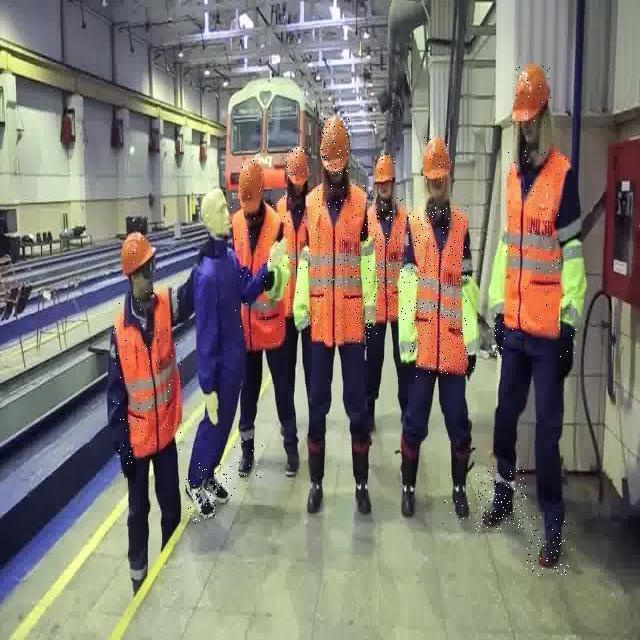helmet: (511, 66, 551, 125), (320, 118, 350, 174), (120, 232, 158, 272), (238, 159, 264, 217), (422, 138, 452, 184), (286, 146, 310, 186), (374, 154, 396, 187)
safety_vest: (505, 150, 571, 334), (113, 287, 182, 459), (408, 206, 468, 374), (307, 183, 367, 345), (231, 202, 283, 352), (366, 196, 406, 320), (278, 196, 308, 316)
